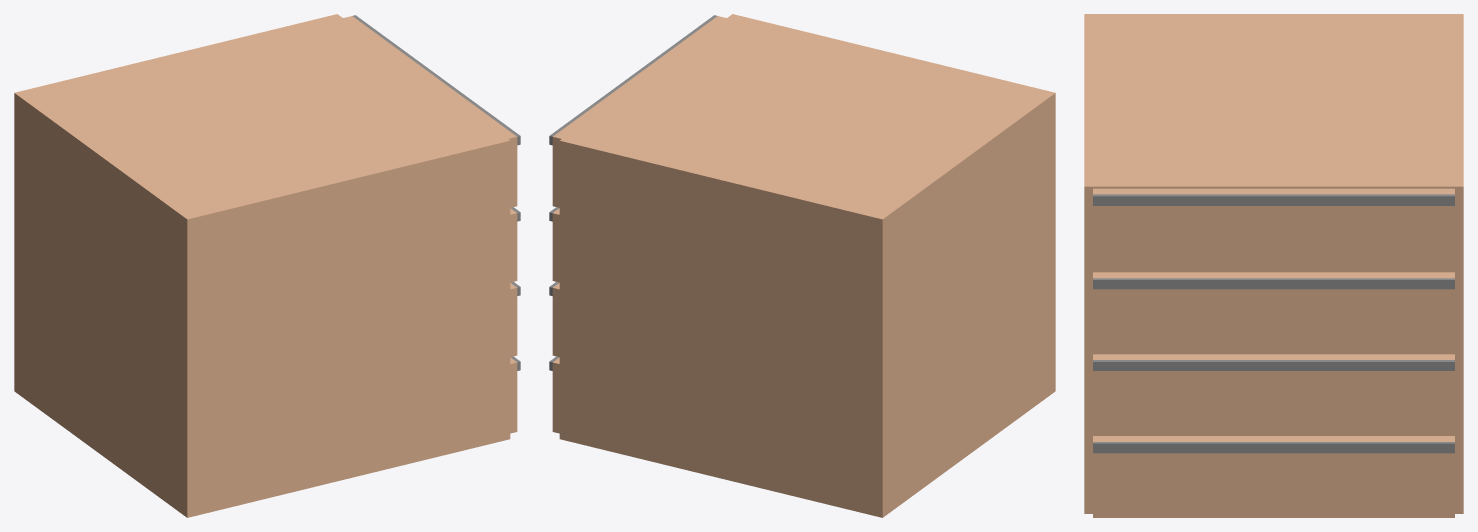
File: fourchest.FBX
3 views of the same model, side by side, from view 1: azimuth 30°, elevation 25°; view 2: azimuth 150°, elevation 25°; view 3: azimuth 270°, elevation 25° (orthographic). The views are drawn at different scales.
Parts seen in each view (by area): view 1: fourchest; view 2: fourchest; view 3: fourchest.
Boxes of the visible parts, box(x1,y1,x2,y2) form: fourchest: box(14, 14, 520, 517); fourchest: box(549, 14, 1055, 517); fourchest: box(1084, 14, 1463, 517).
Bounding box in the file's own units: 11.04 × 9.33 × 9.8.
